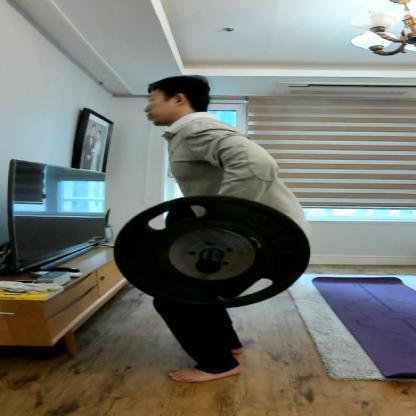barbell: (114, 195, 312, 309)
